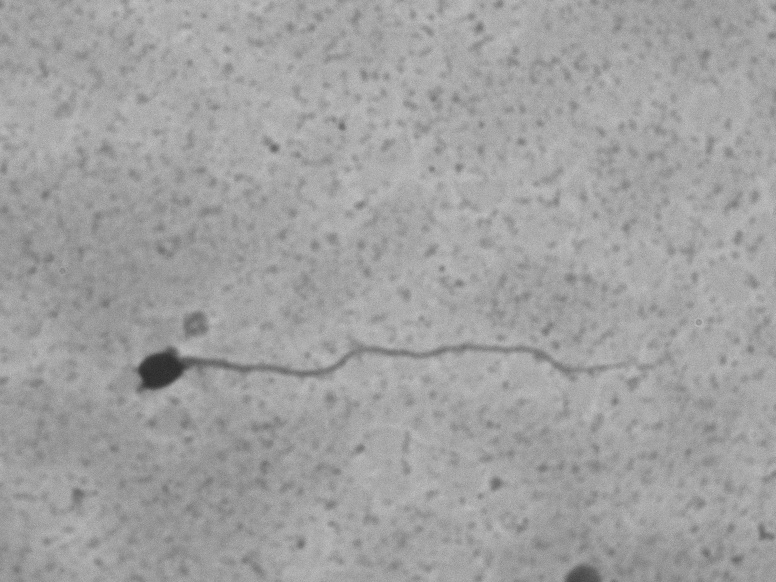Abnormal: (95, 271, 635, 457)
